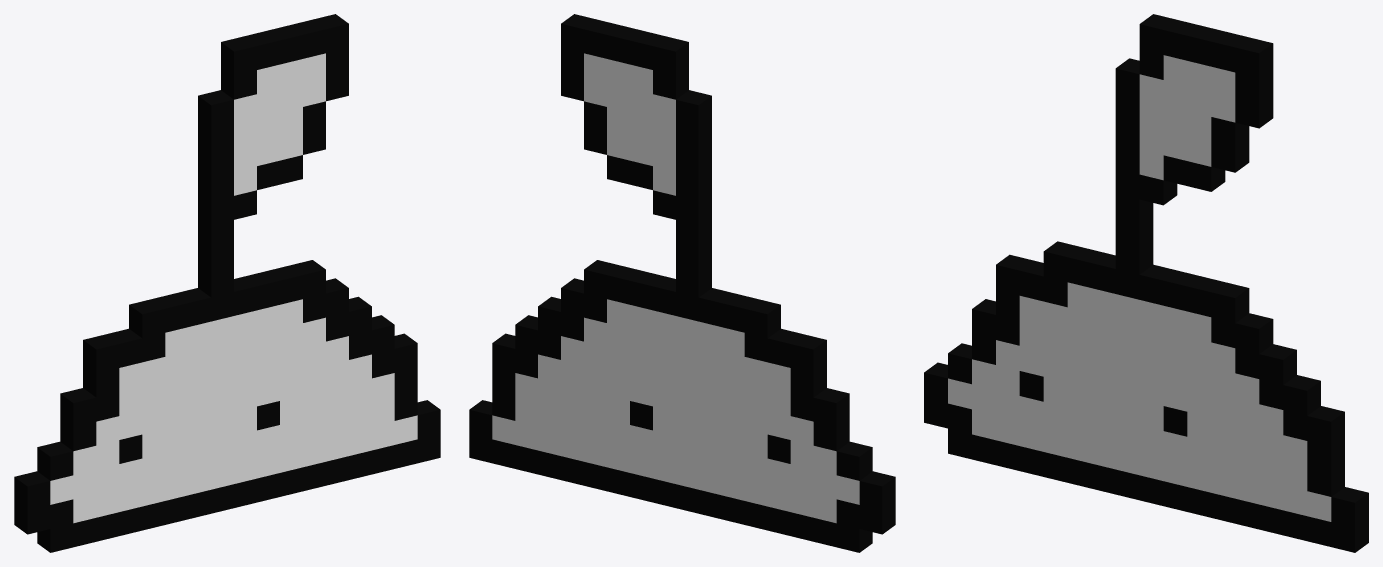
File: slimeking-toss-2.obj
3 views of the same model, side by side, from view 1: azimuth 30°, elevation 25°; view 2: azimuth 150°, elevation 25°; view 3: azimuth 330°, elevation 25° (orthographic). The views are drawn at different scales.
Size of the model in its own units: 1.8 by 1.9 by 0.1.
Materials: 1 (1 with a texture image).
